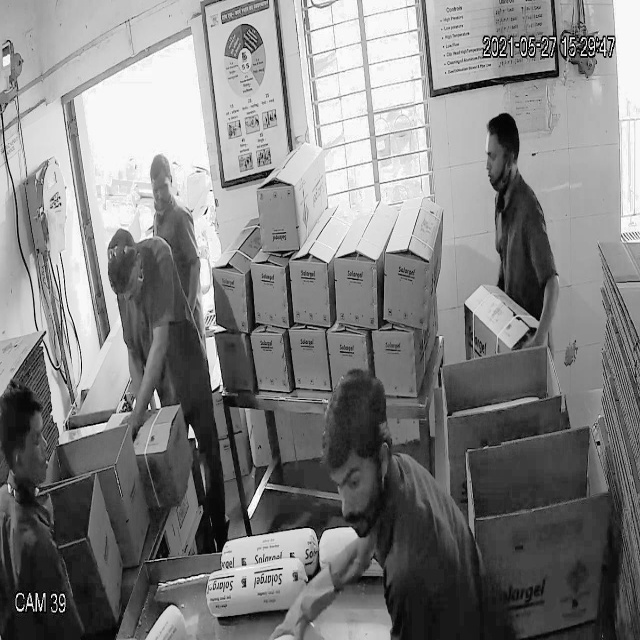Sin_gafas: (329, 460, 381, 505), (480, 137, 519, 171)
